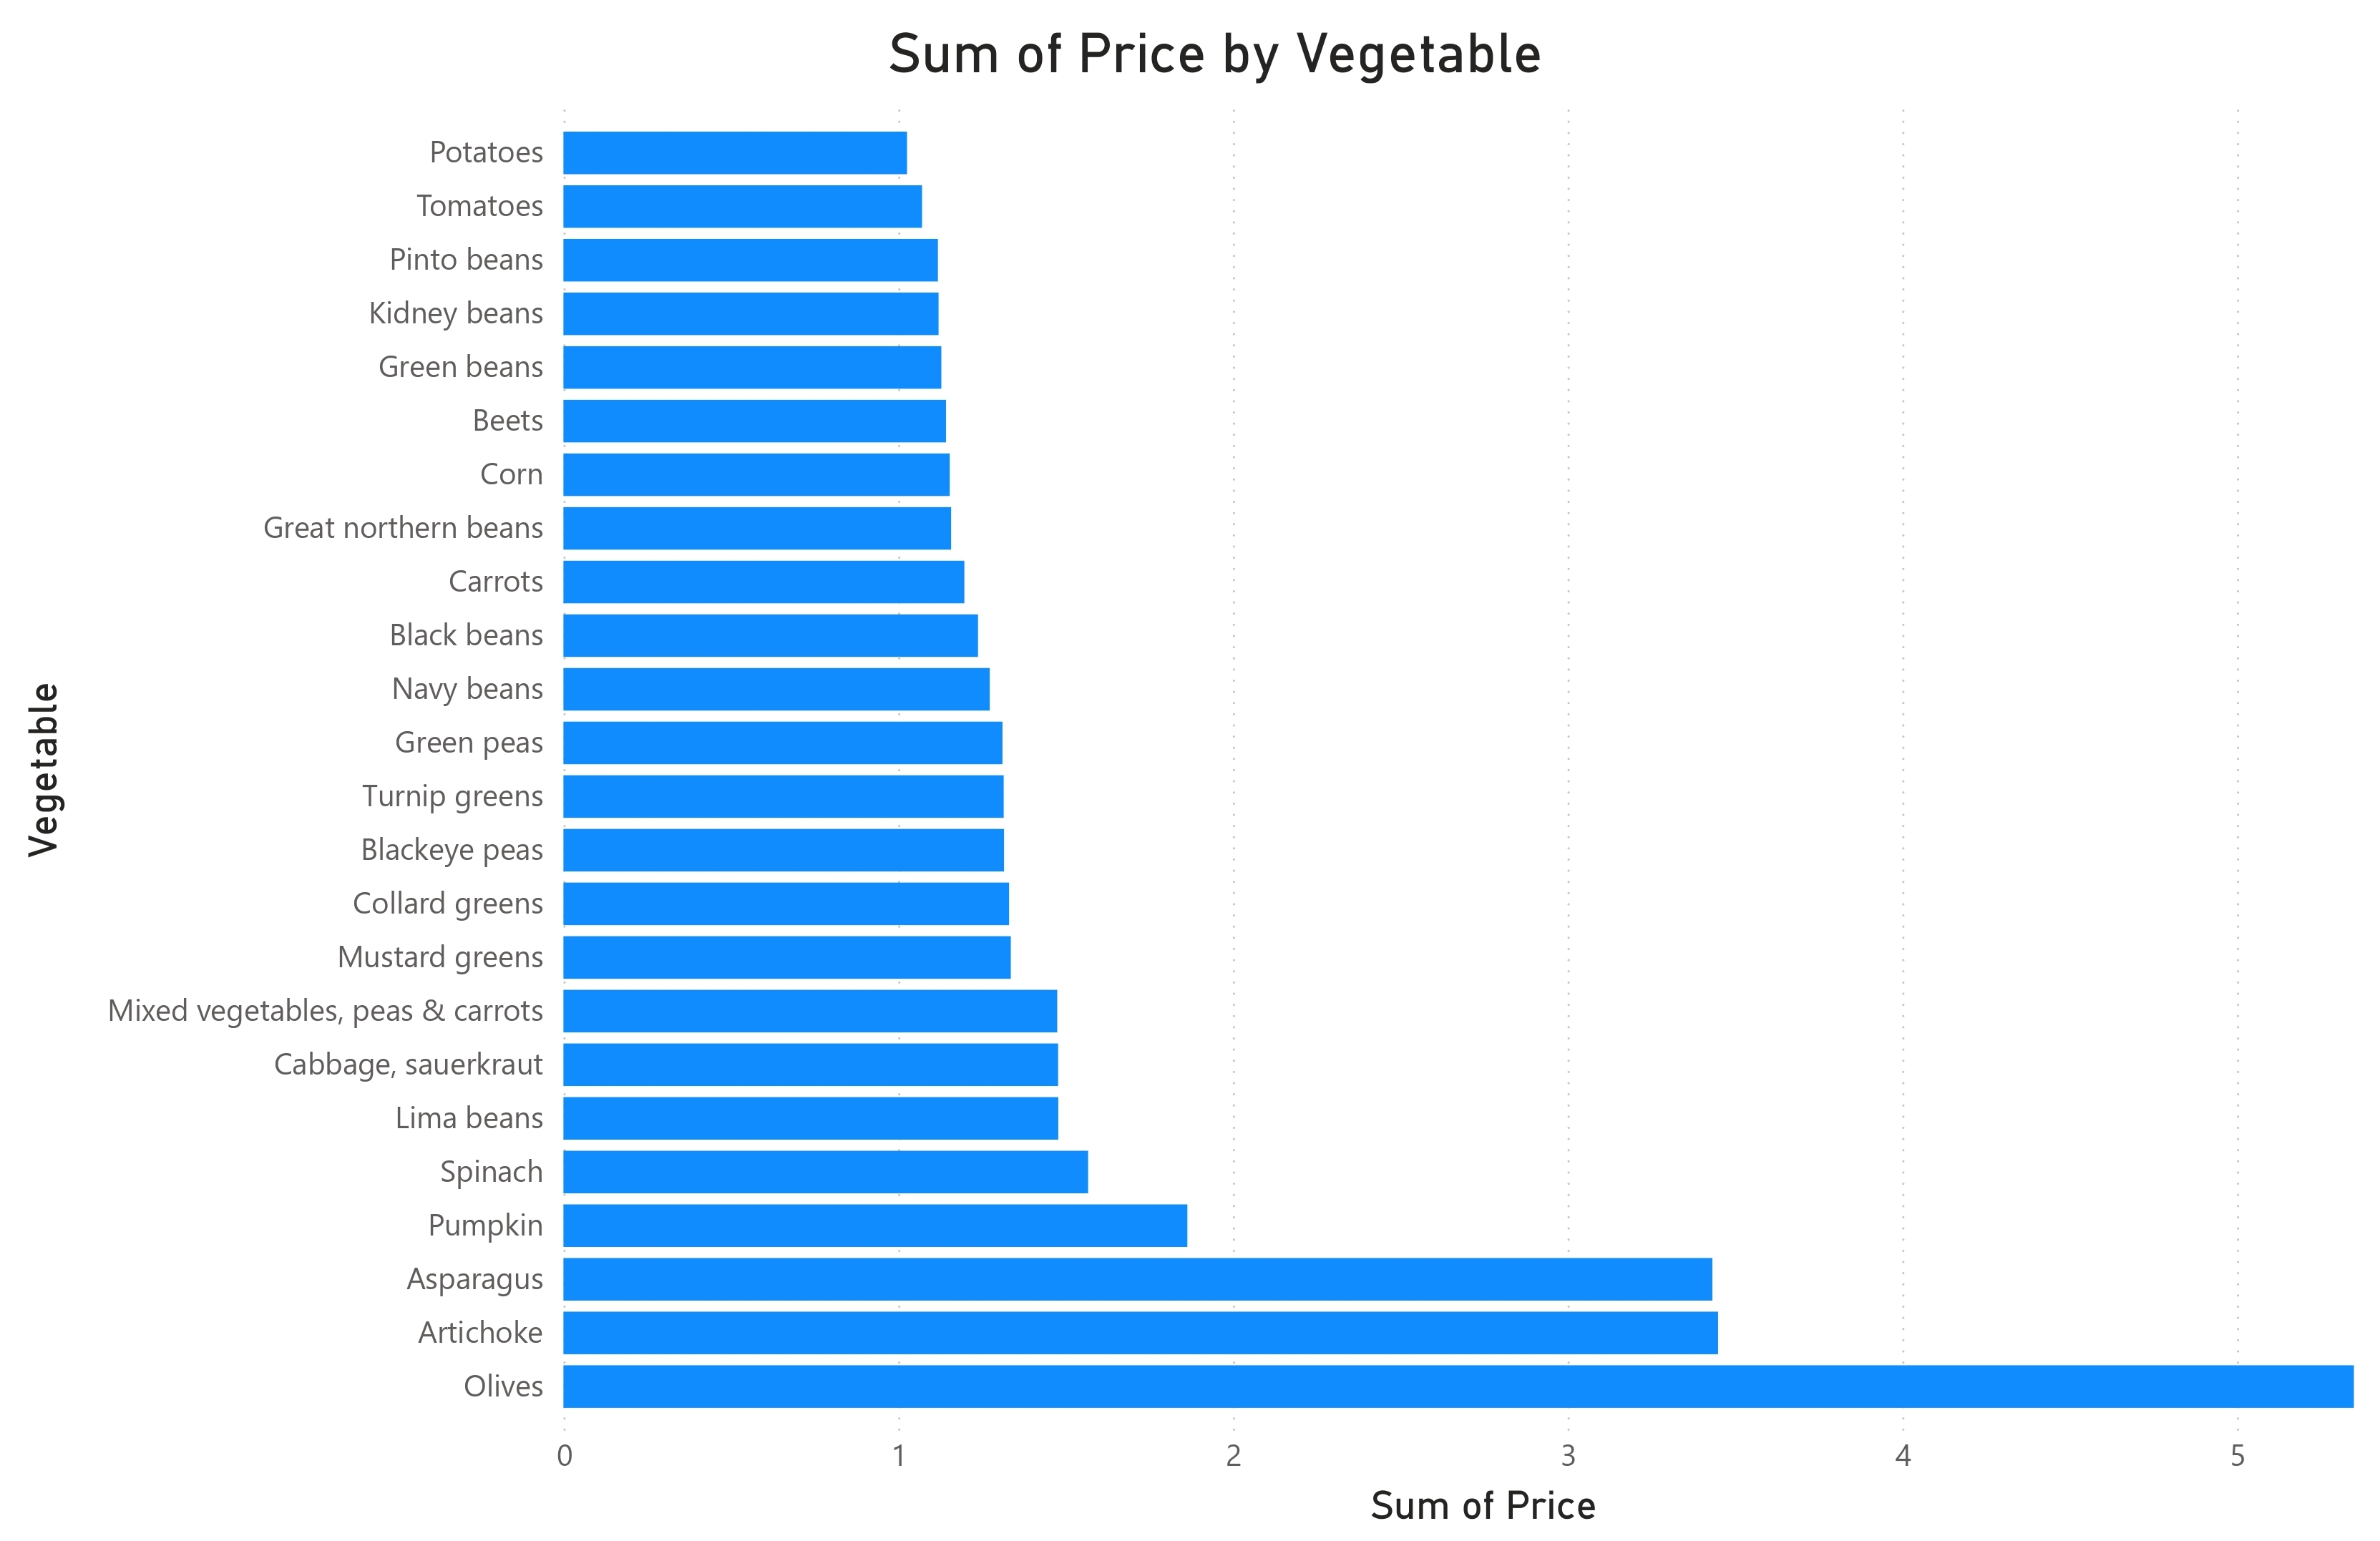

What the dashboard file says about the page in this screenshot:
{"tool":"powerbi","page":{"name":"Canned Vegetables","canvas":[1280,720],"ordinal":0},"visuals":[{"type":"textbox","box":[167.4,30.2,942.7,71.4],"z":0},{"type":"barChart","fields":{"Category":["price_order_canned.Vegetable"],"Y":["Avg(price_order_canned.Retail Price)"]},"box":[322.8,110.1,629.8,593.1],"z":1000}]}

Visuals, with their boxes on the page's 1280x720 design canvas (x1, y1, x2, y2). These are canvas units, not pixel positions in the 2380x1541 screenshot, which may show the page scaled, cropped or inside an application window:
textbox: (167,30,1110,102)
barChart - price_order_canned.Vegetable x Avg(price_order_canned.Retail Price): (323,110,953,703)
